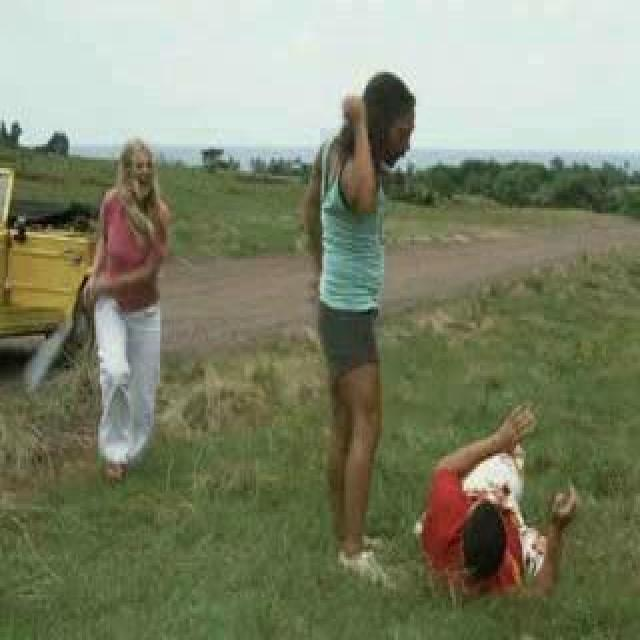fight: (315, 44, 613, 623), (13, 137, 207, 468)
